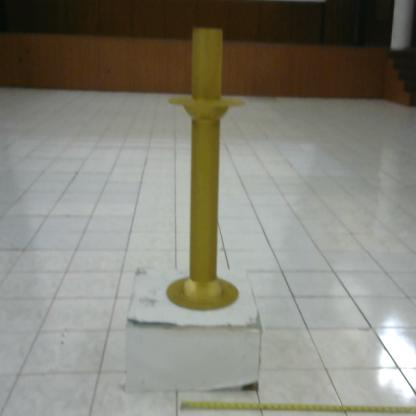pole: (164, 24, 246, 315)
